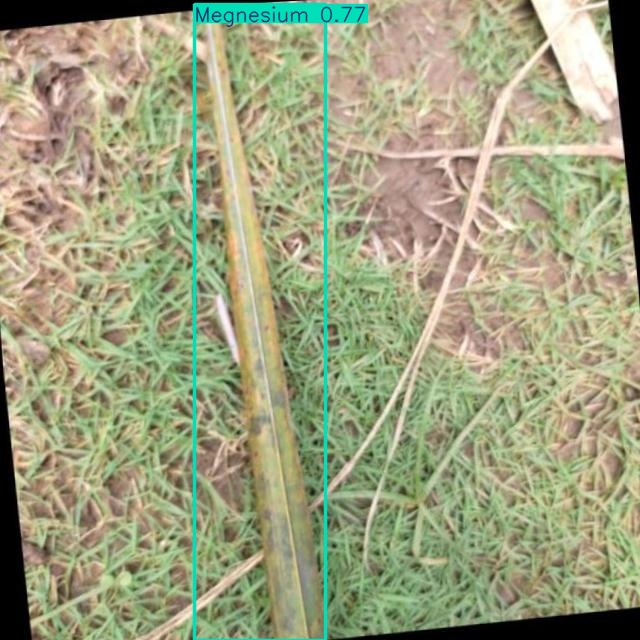Megnesium: (195, 4, 326, 640)
